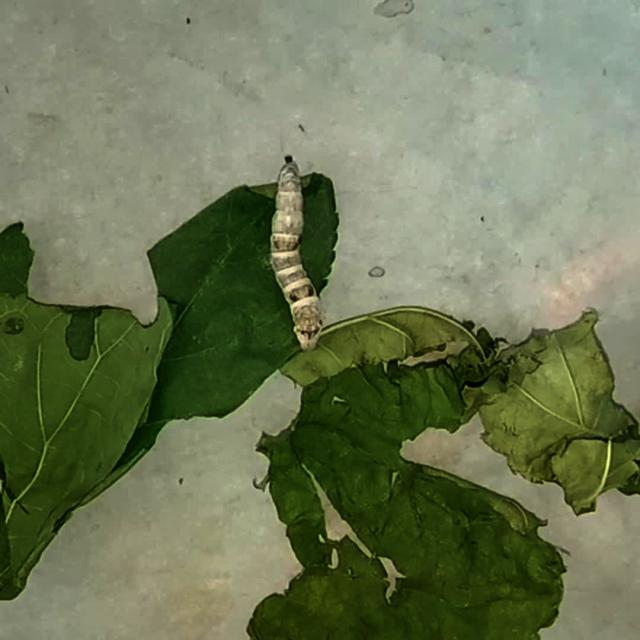Grasserie: (251, 128, 361, 373)
